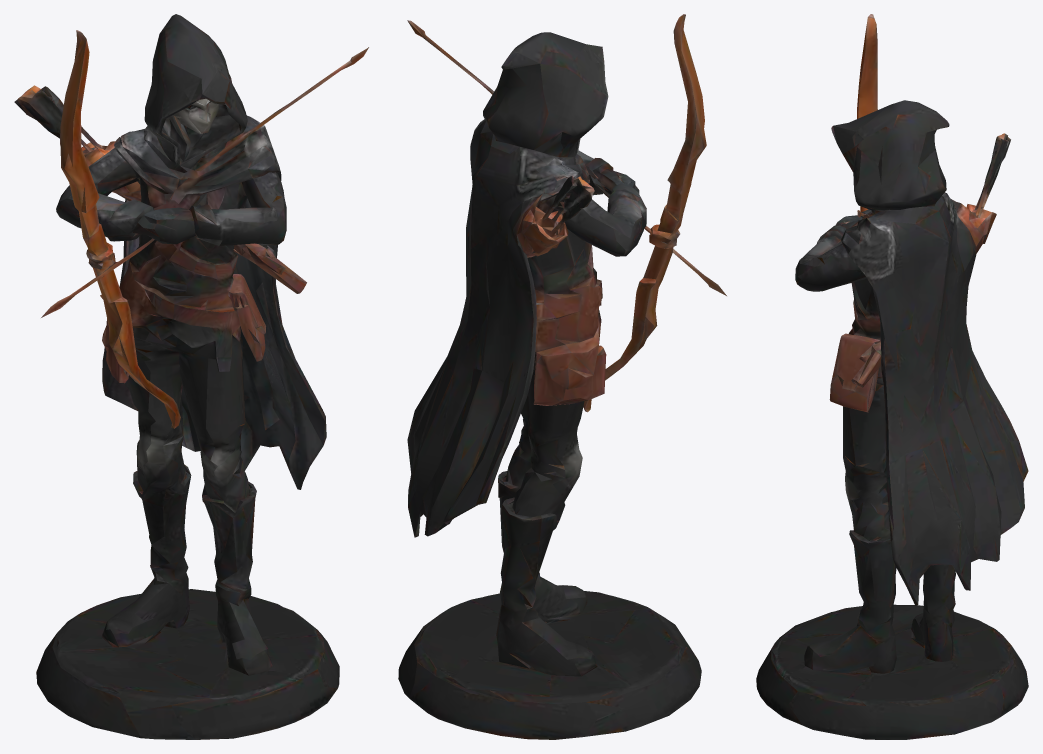
File: hero_shadowarcher.glb
3 renders of one model, left to right at view 1: azimuth 30°, elevation 25°; view 2: azimuth 150°, elevation 25°; view 3: azimuth 270°, elevation 25°, orthographic. The views are drawn at different scales.
Bounding box in the file's own units: 0.942 × 1.9 × 0.7618.
1 material, 1 textured.
